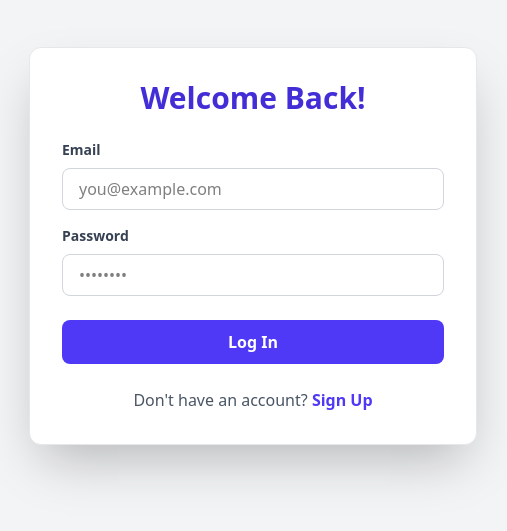
Test: AuthForm Page › shows error message on failed login
In the field with placeholder "you@example.com": {"x": 253, "y": 189} [62,168,444,210], type "test@example.com"
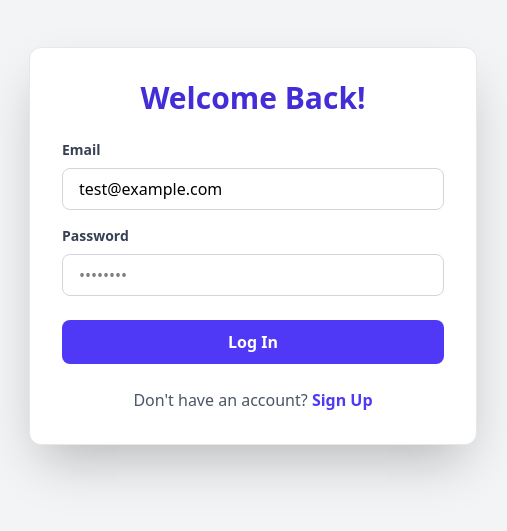
In the password field with placeholder "••••••••": {"x": 253, "y": 275} [62,254,444,296], type "wrong"
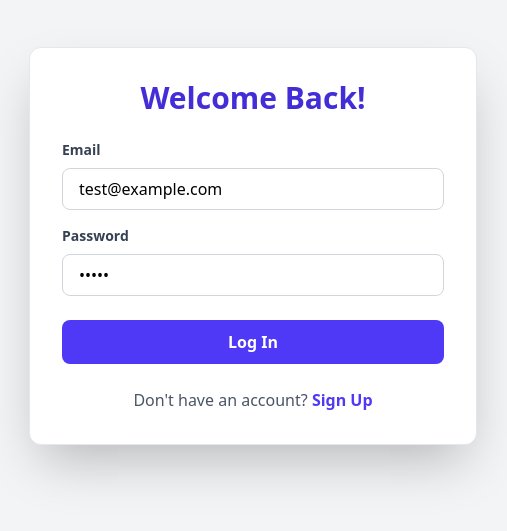
Click the button "Log In": {"x": 253, "y": 342} [62,320,444,364]
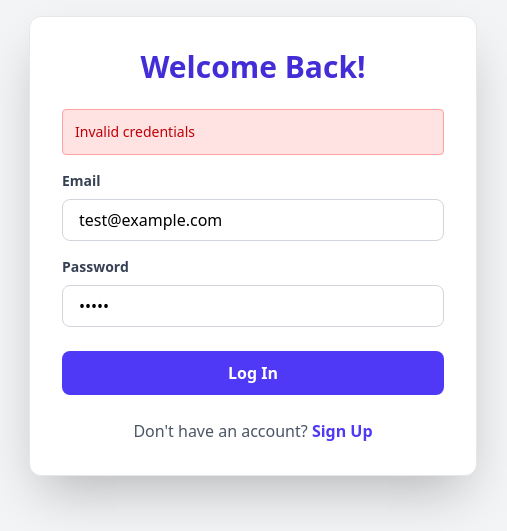
Expected: the text "Invalid credentials" is shown, [62,109,444,155]
